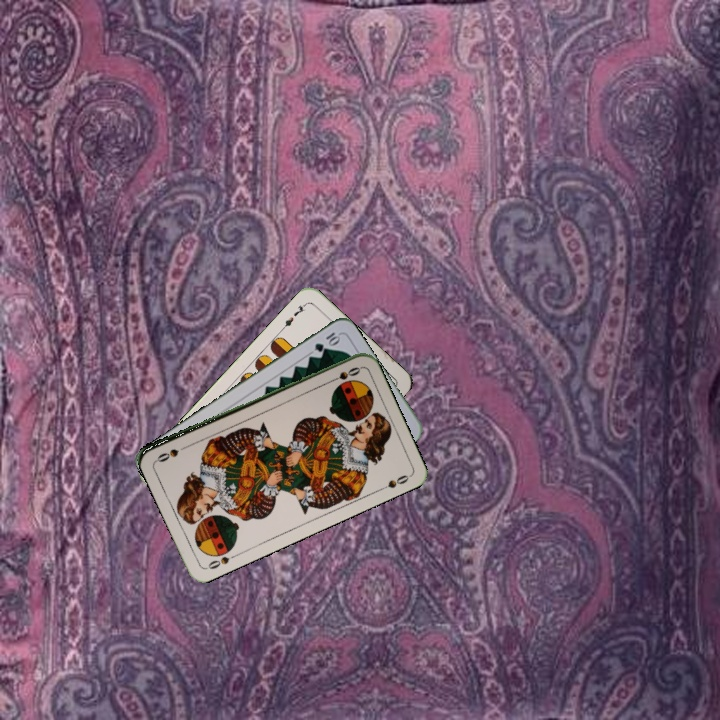E7: (278, 299, 309, 332)
G10: (310, 328, 343, 355)
SO: (325, 363, 363, 386), (202, 550, 241, 572)
